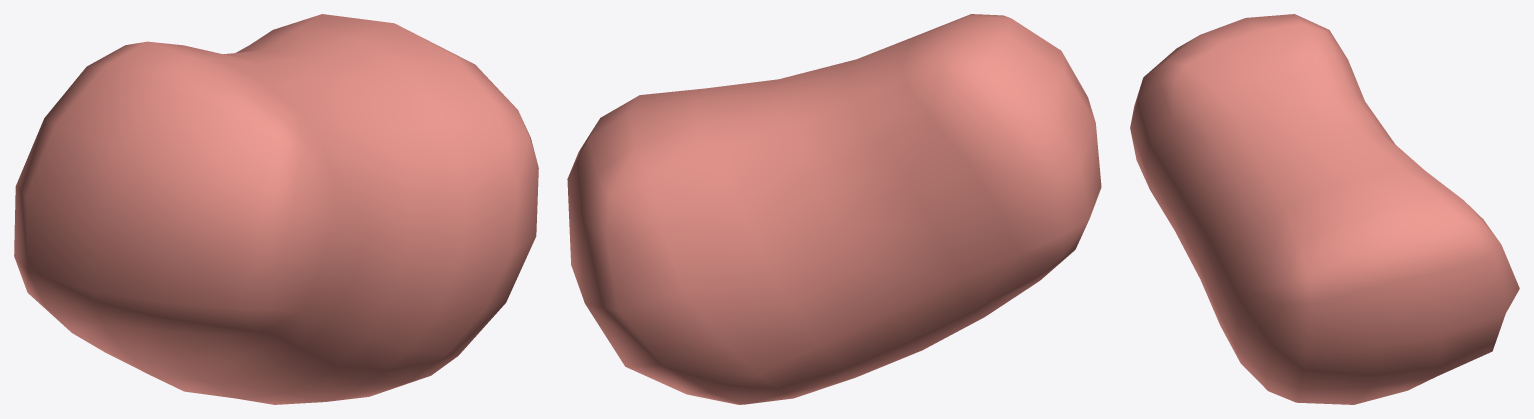
The model's file is mixamo_humanoid_surface_rightHandThumb2.fbx.
3 renders of one model, left to right at view 1: azimuth 30°, elevation 25°; view 2: azimuth 150°, elevation 25°; view 3: azimuth 270°, elevation 25°, orthographic. The views are drawn at different scales.
Visible parts, largest first — view 1: surface_RightHandThumb2; view 2: surface_RightHandThumb2; view 3: surface_RightHandThumb2.
Boxes of the visible parts, x1=… form: surface_RightHandThumb2: x1=14, y1=14, x2=538, y2=404; surface_RightHandThumb2: x1=567, y1=14, x2=1101, y2=404; surface_RightHandThumb2: x1=1130, y1=14, x2=1519, y2=404.
Bounding box in the file's own units: 3.48 × 2.53 × 3.05.
